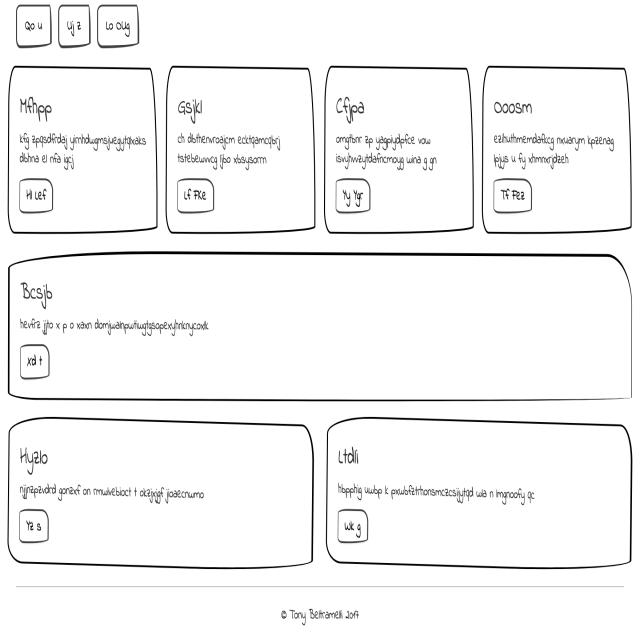Button: (169, 170, 220, 219), (491, 177, 529, 219), (337, 178, 378, 215), (22, 176, 58, 216), (15, 340, 51, 378), (336, 512, 369, 546), (17, 510, 52, 538)
Card: (4, 252, 621, 406), (322, 416, 632, 559), (9, 425, 312, 569), (484, 64, 637, 234), (169, 68, 317, 236), (10, 70, 157, 237), (325, 64, 468, 233)
Footer: (0, 575, 640, 640)
Heading 6: (330, 85, 372, 124), (13, 93, 70, 120), (21, 274, 69, 304), (494, 91, 538, 119), (176, 89, 214, 120), (17, 444, 49, 467)
Navigation Bar: (13, 6, 139, 49)
Paragraph: (16, 477, 218, 508), (332, 475, 546, 504), (329, 124, 441, 176), (172, 124, 295, 171), (496, 130, 624, 175), (22, 312, 214, 342), (14, 130, 152, 167), (332, 445, 365, 474)
